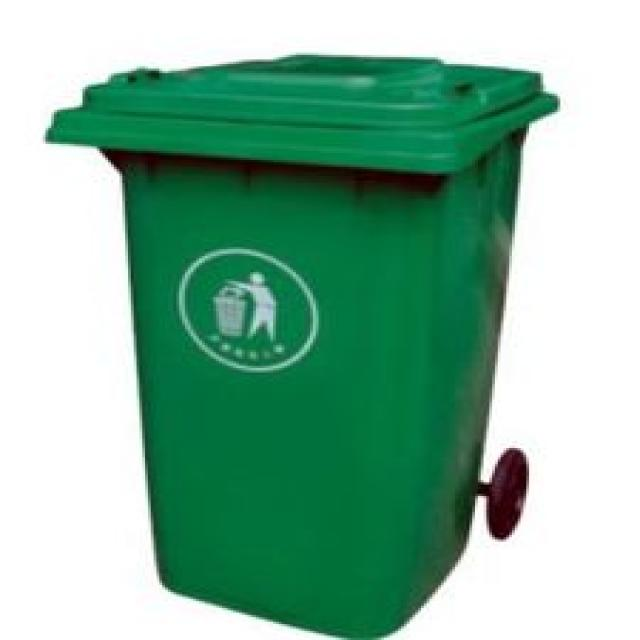garbage_bin: (42, 48, 558, 638)
